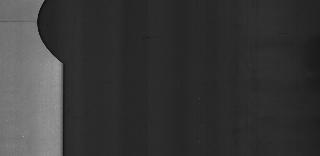welding line: (1, 16, 44, 24)
